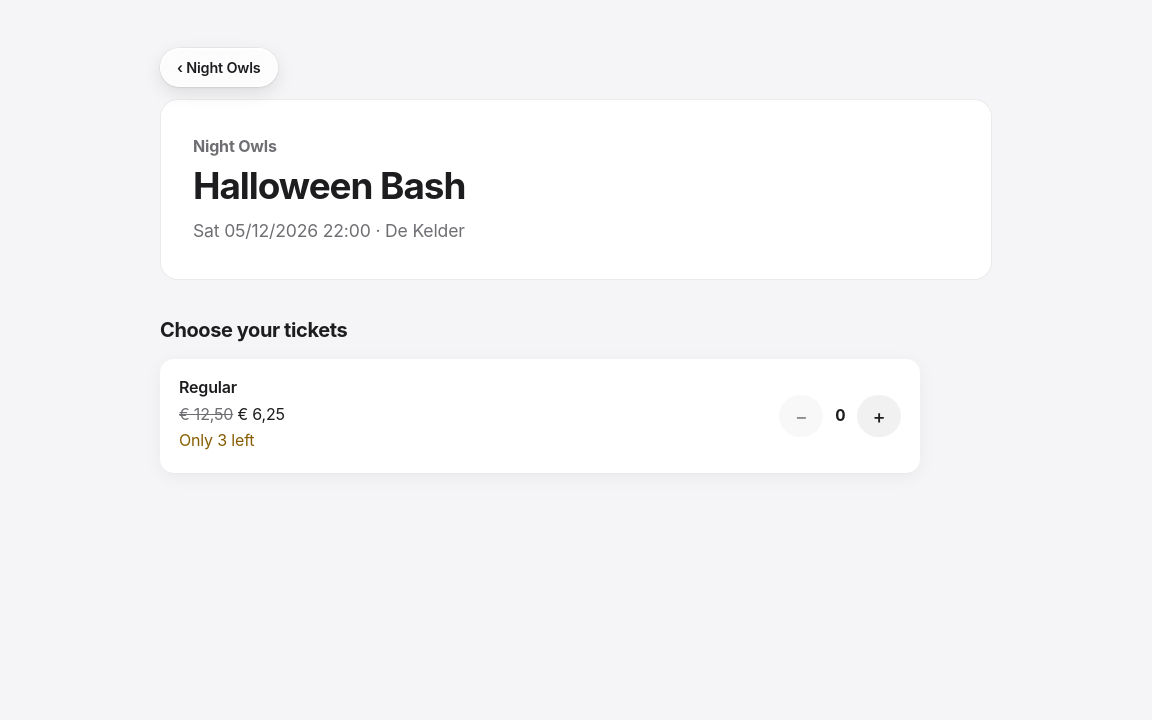
EventPage › offers paying with tokens only when there are enough of them
Step 1. Click the button named "More Regular" → (879, 416), box x1=857 y1=395 x2=901 y2=437
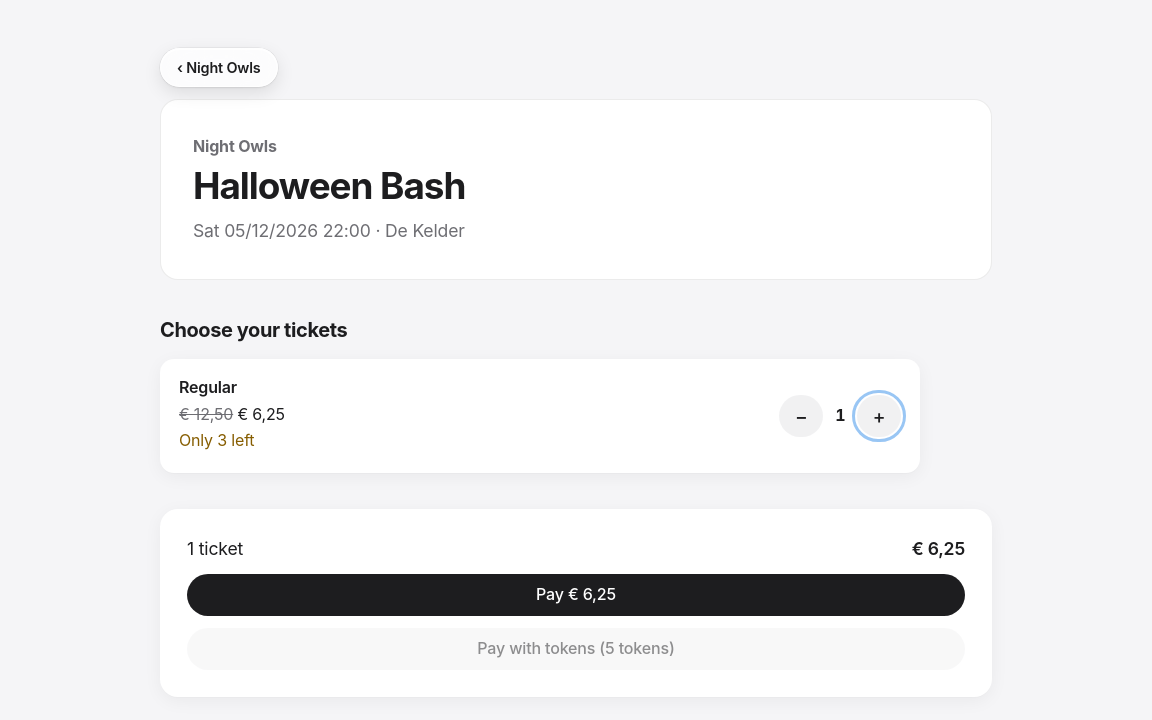
Expected: the button "Pay with tokens (5 tokens)" is disabled, x1=187 y1=628 x2=965 y2=670
